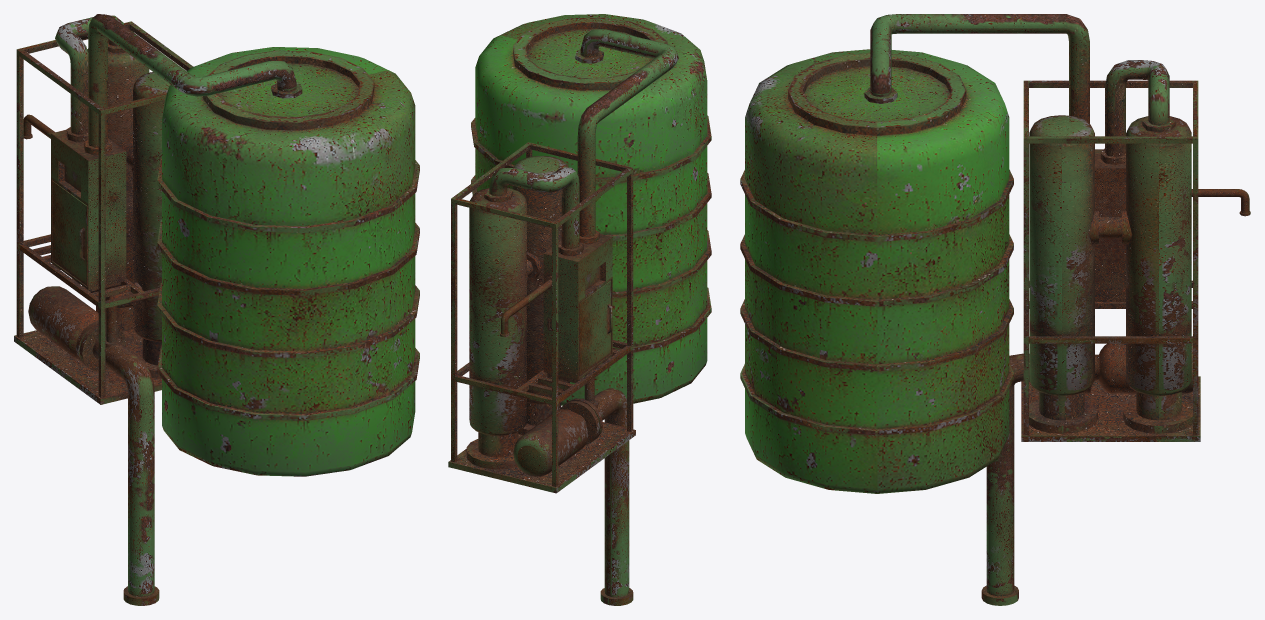
File: Pomp.fbx
3 views of the same model, side by side, from view 1: azimuth 30°, elevation 25°; view 2: azimuth 150°, elevation 25°; view 3: azimuth 270°, elevation 25° (orthographic). The views are drawn at different scales.
Parts seen in each view (by area): view 1: Pomp; view 2: Pomp; view 3: Pomp.
Boxes of the visible parts, box(x1,y1,x2,y2) form: Pomp: box(14, 14, 419, 605); Pomp: box(448, 14, 711, 605); Pomp: box(740, 14, 1250, 605).
Size of the model in its own units: 1.47 by 3.39 by 2.7.
